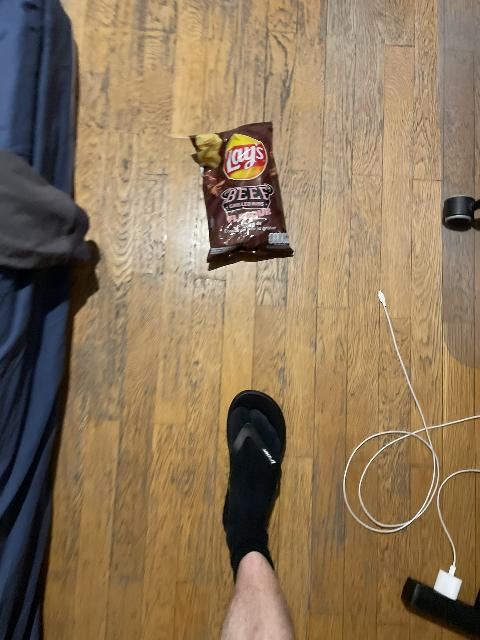Lays Beef Grilled Ribs 125g: (195, 123, 300, 265)
